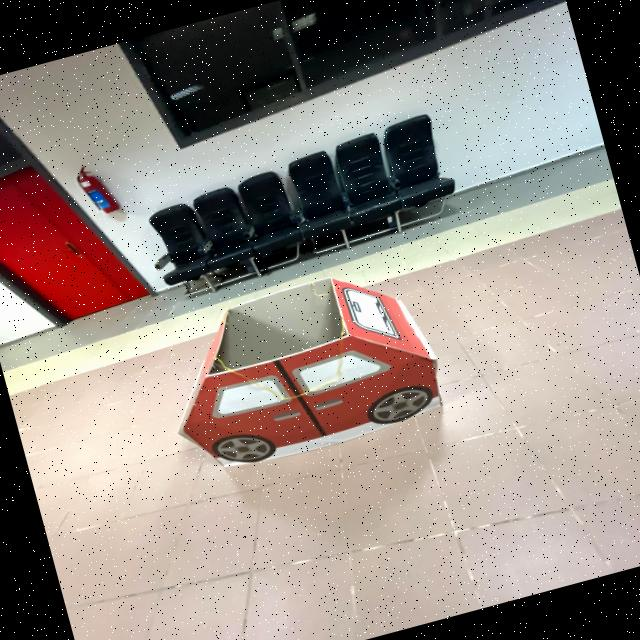red_car: (130, 241, 488, 494)
